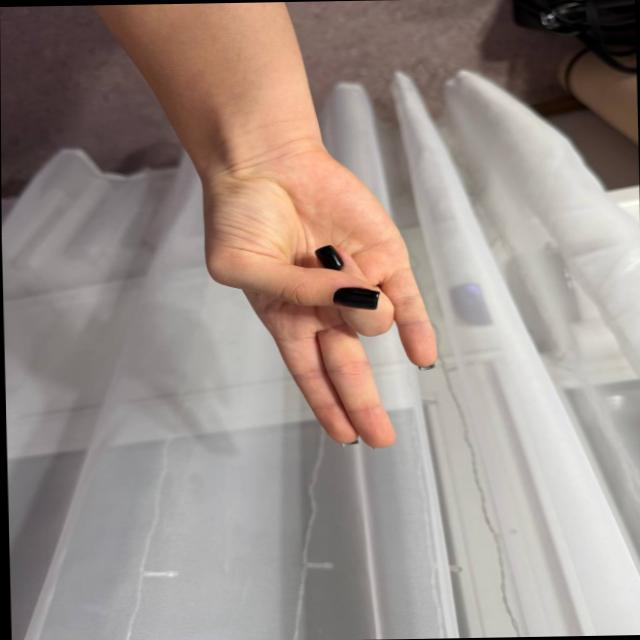n: (147, 153, 526, 483)
